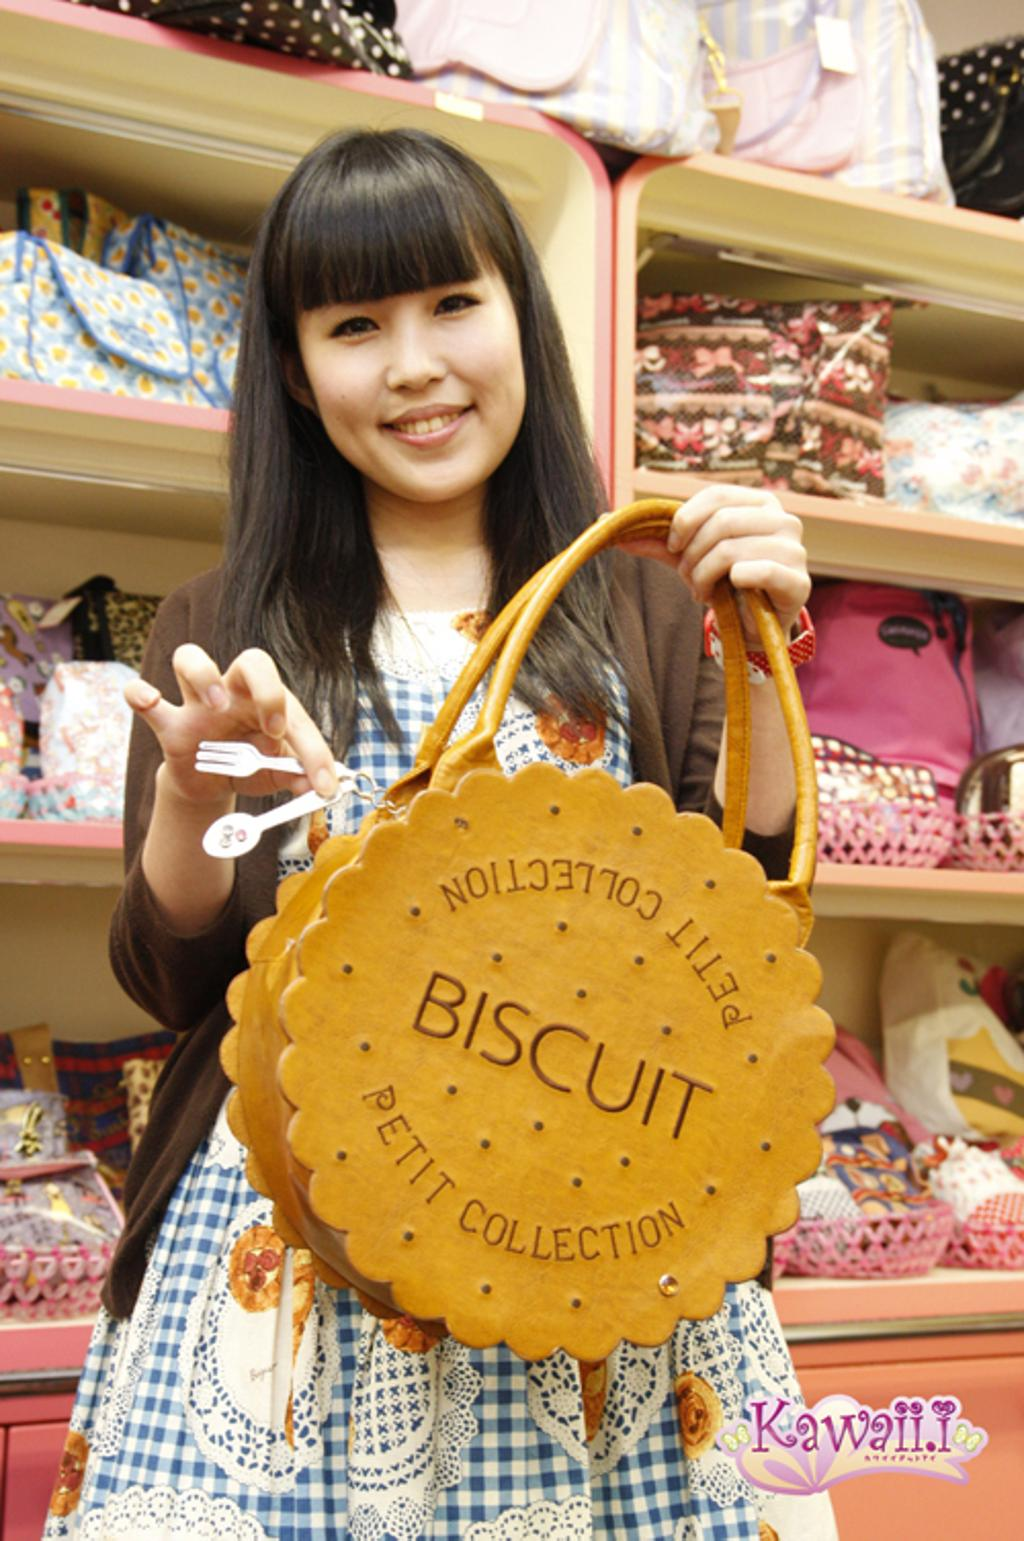face: (301, 208, 518, 500)
